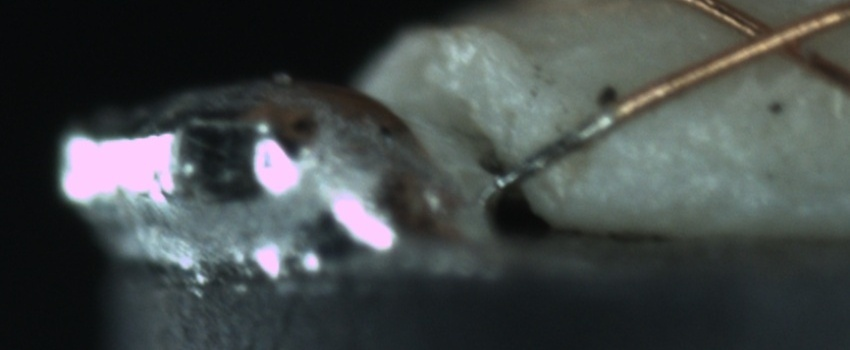CL: (720, 4, 827, 69)
TS: (502, 112, 616, 189)
TTCW: (499, 87, 647, 185)
